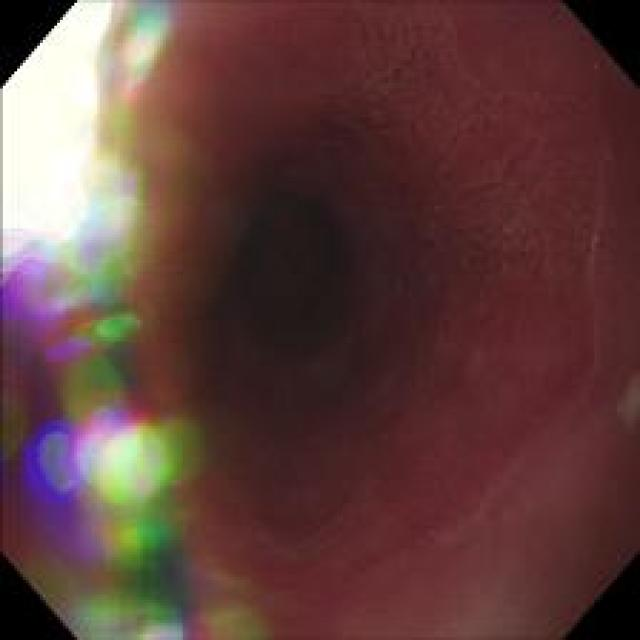color misalignment: (54, 6, 205, 630), (52, 564, 272, 636)
contrast: (214, 190, 420, 451)
saturation: (1, 9, 109, 249)
